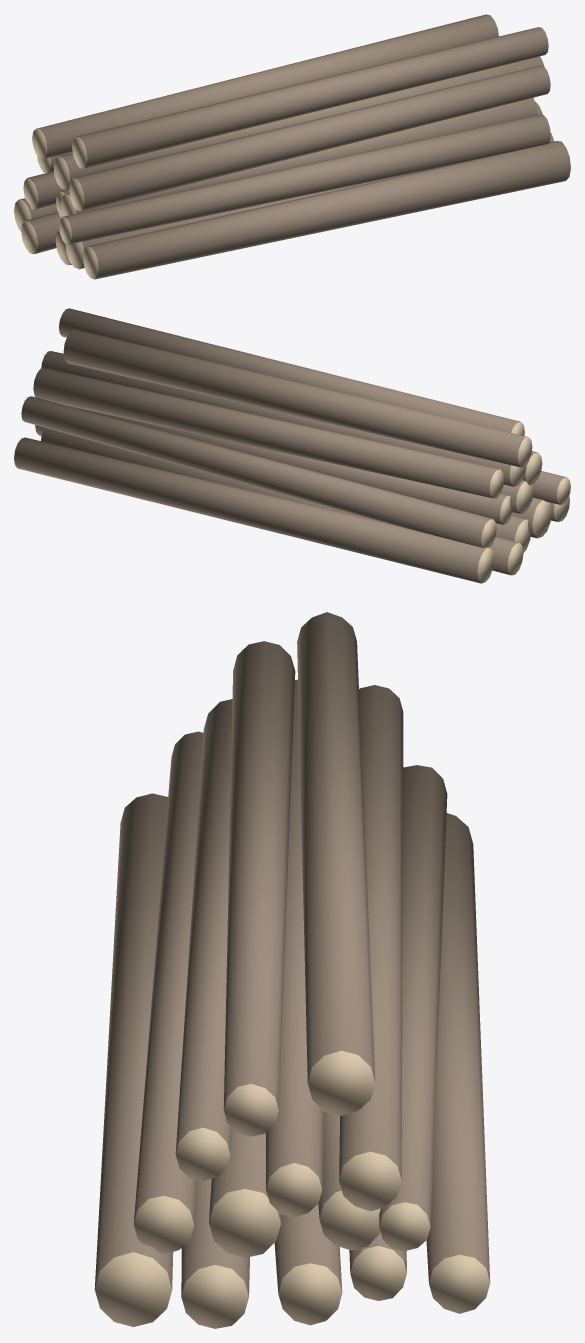
Rendered from timber_stack.glb.
3 views of the same model, one above another, from view 1: azimuth 30°, elevation 25°; view 2: azimuth 150°, elevation 25°; view 3: azimuth 270°, elevation 25° (orthographic). The views are drawn at different scales.
Visible parts, largest first — view 1: timber_stack_LOD0; view 2: timber_stack_LOD0; view 3: timber_stack_LOD0.
Boxes of the visible parts, left/top/right/bottom form: timber_stack_LOD0: left=14, top=14, right=570, bottom=279; timber_stack_LOD0: left=14, top=308, right=570, bottom=583; timber_stack_LOD0: left=94, top=612, right=490, bottom=1328.
Size of what is drawn, in the model's own units: 4.32 by 1.09 by 1.5.
